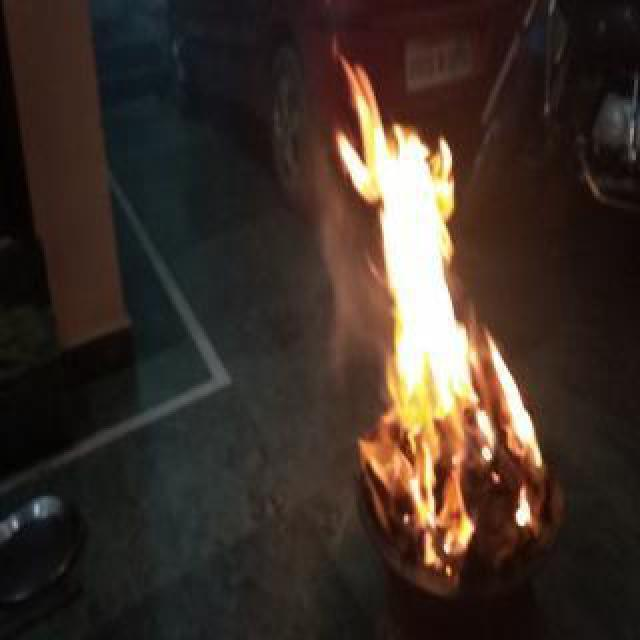Fire: (332, 48, 542, 518)
